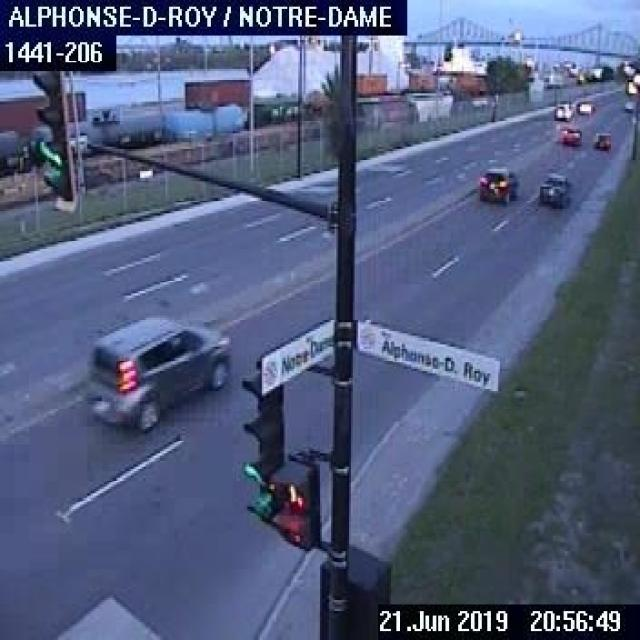vehicle: (84, 311, 232, 427), (476, 164, 516, 200), (535, 171, 567, 207), (574, 95, 598, 120), (558, 124, 581, 142), (553, 100, 571, 121), (591, 129, 609, 149), (622, 100, 638, 113)
